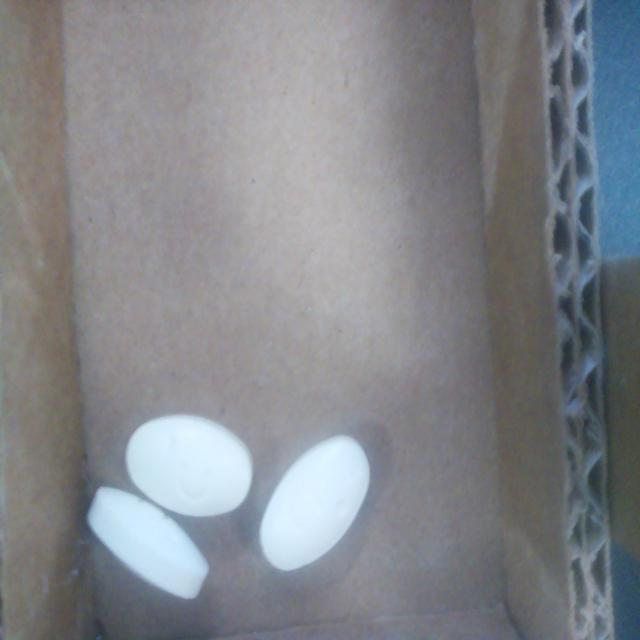pill: (260, 435, 370, 571), (87, 487, 209, 599), (125, 415, 252, 517)
